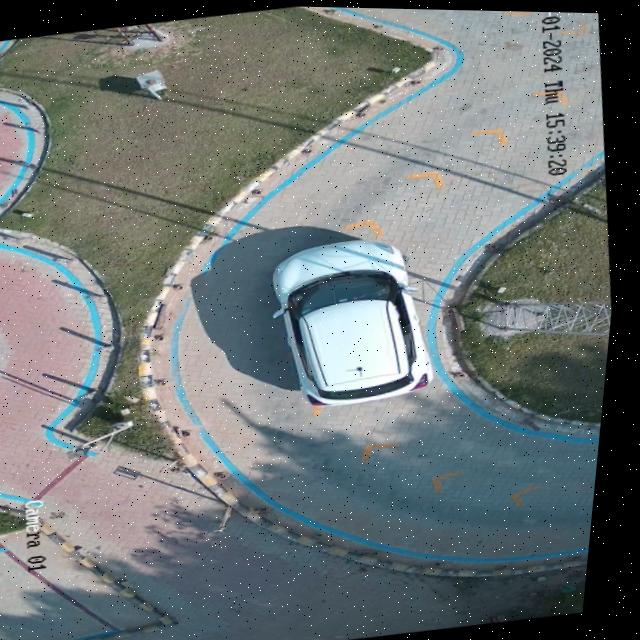car: (277, 238, 440, 405)
